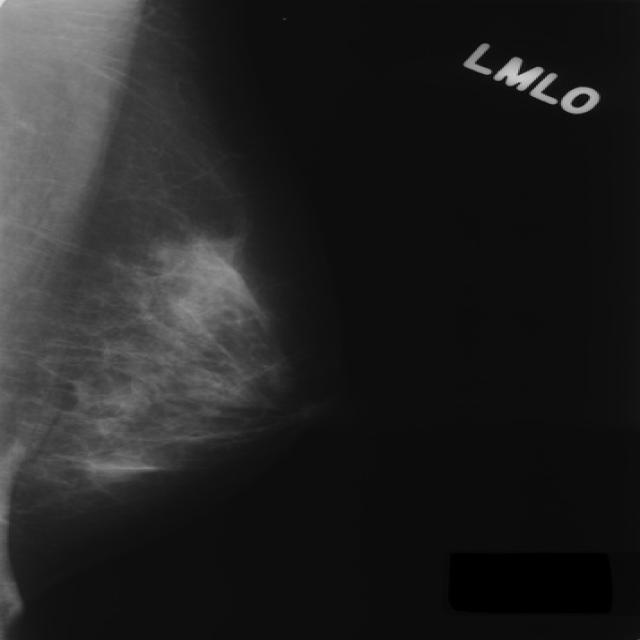tumour: (81, 451, 147, 482)
